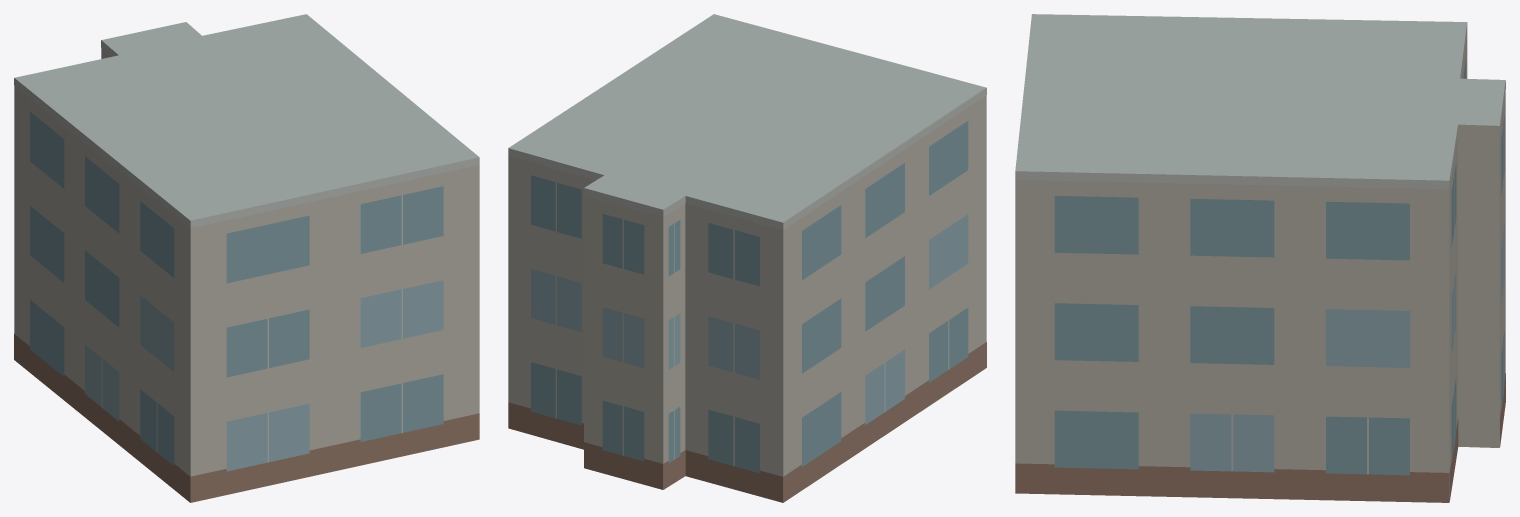
Rendered from survey-upis-32602697.glb.
3 views of the same model, side by side, from view 1: azimuth 30°, elevation 25°; view 2: azimuth 150°, elevation 25°; view 3: azimuth 270°, elevation 25° (orthographic). The views are drawn at different scales.
Visible parts, largest first — view 1: survey-upis-32602697.tmp; view 2: survey-upis-32602697.tmp; view 3: survey-upis-32602697.tmp.
Boxes of the visible parts, x1,y1,x2,y2 form: survey-upis-32602697.tmp: [14, 14, 479, 502]; survey-upis-32602697.tmp: [508, 14, 986, 502]; survey-upis-32602697.tmp: [1015, 14, 1505, 502].
Bounding box in the file's own units: 10.16 × 9.15 × 12.63.
